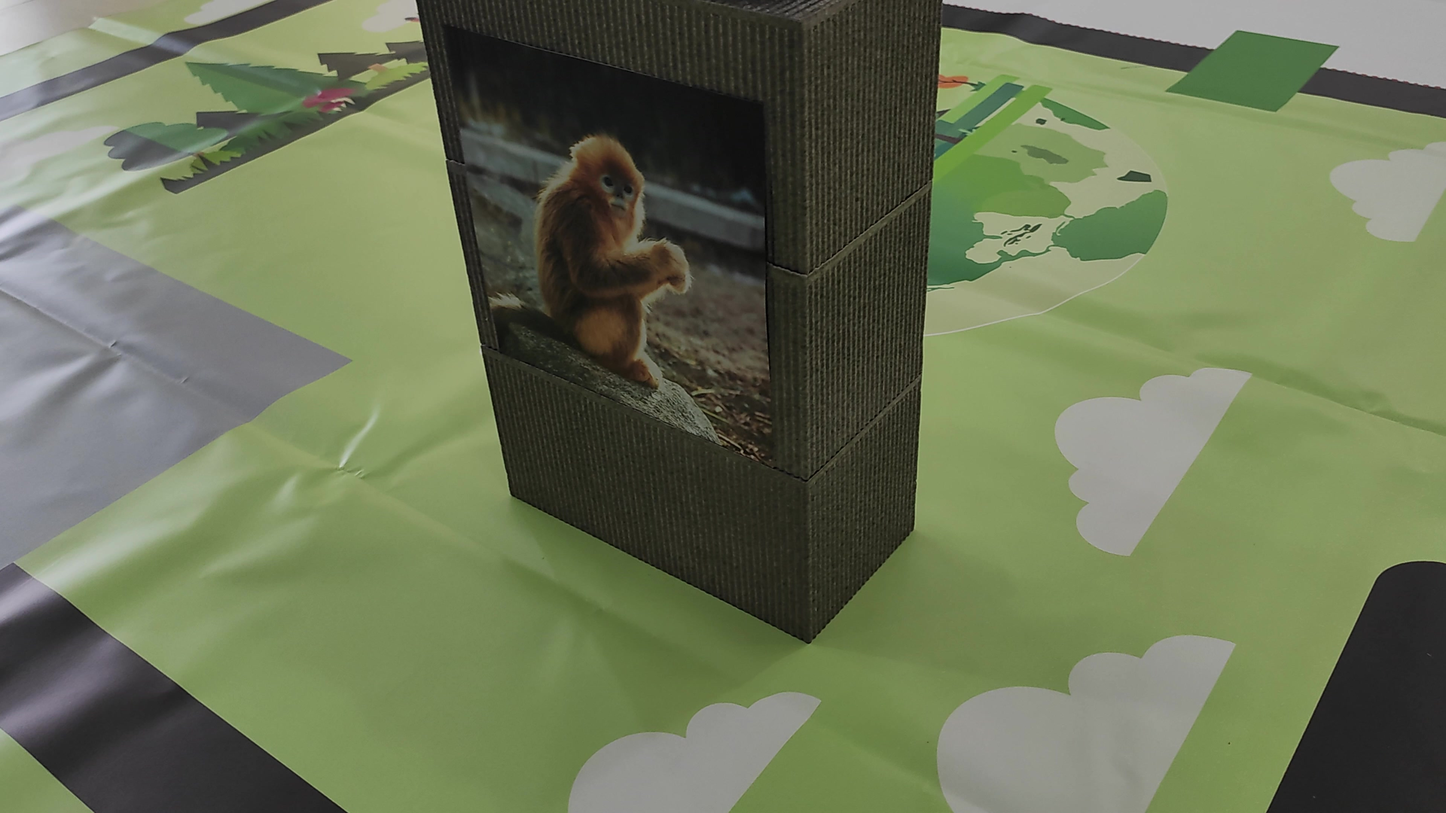monkey: (506, 110, 741, 408)
